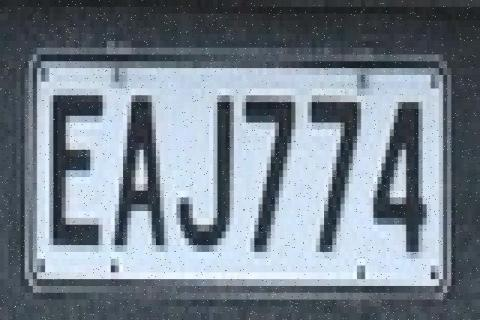LicensePlate: (16, 9, 462, 311)
